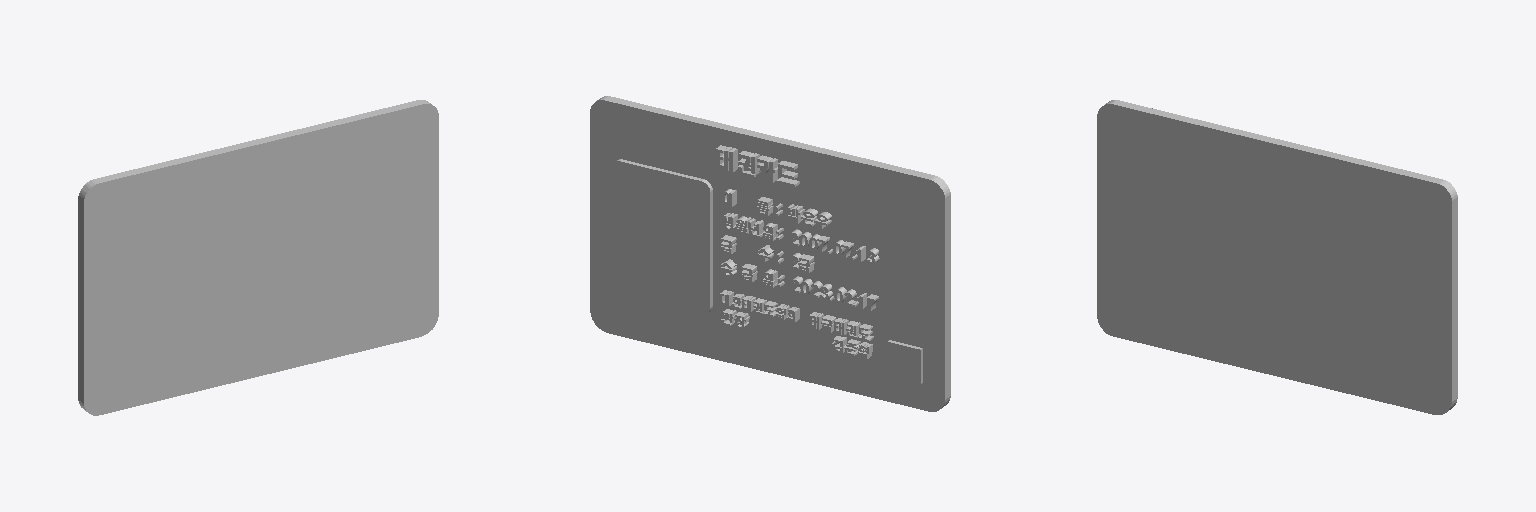
The model's file is card3.obj.
3 renders of one model, left to right at view 1: azimuth 30°, elevation 25°; view 2: azimuth 150°, elevation 25°; view 3: azimuth 330°, elevation 25°, orthographic.
Visible parts, largest first — view 1: Plane_MS, Plane_BG; view 2: Plane_BG, Plane.001_people.001, Text.014_text1.001, Text.001_text1.001, Cube_stam, Plane.001_BG.001; view 3: Plane_MS, Plane_BG.
Boxes of the visible parts, x1,y1,x2,y2 form: Plane_MS: [84, 104, 438, 415]; Plane_BG: [78, 100, 430, 411]; Plane_BG: [590, 96, 950, 411]; Plane.001_people.001: [612, 161, 709, 314]; Text.014_text1.001: [716, 145, 878, 358]; Text.001_text1.001: [722, 151, 879, 353]; Cube_stam: [887, 342, 920, 383]; Plane.001_BG.001: [617, 159, 712, 311]; Plane_MS: [1097, 104, 1451, 414]; Plane_BG: [1105, 100, 1457, 409].
Size of the model in its own units: 4.98 by 3.11 by 0.2591.